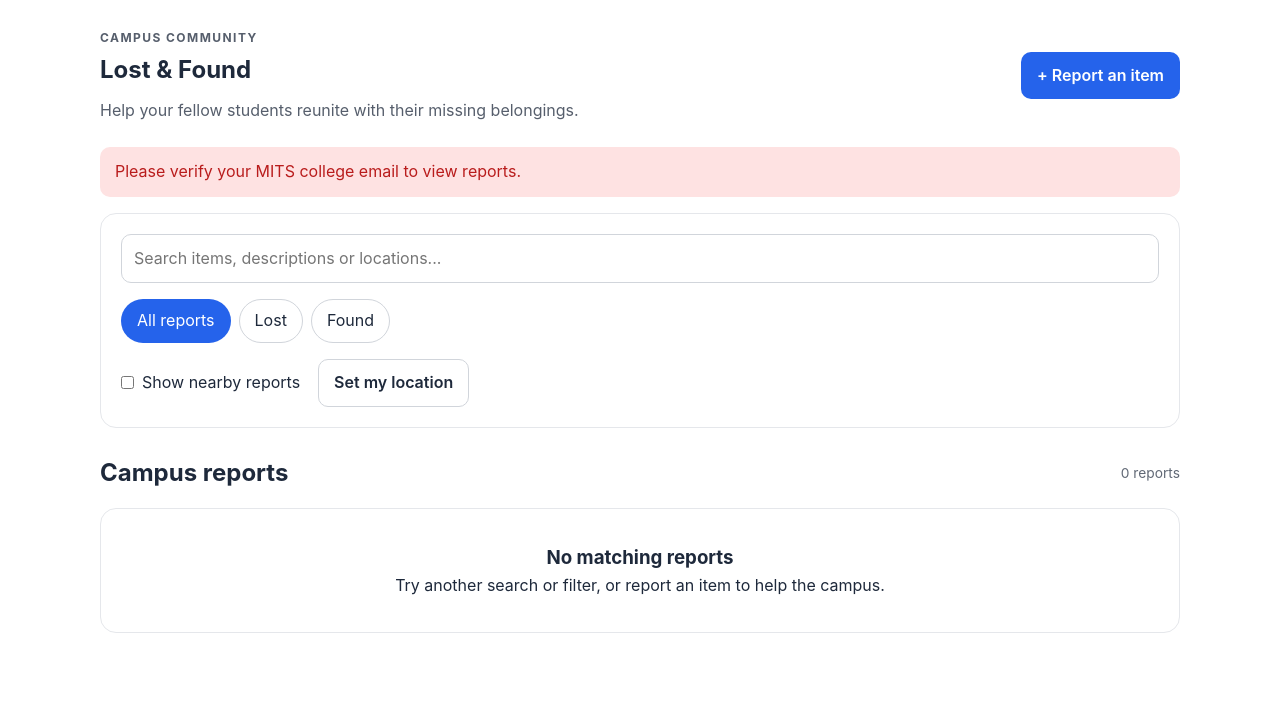
Test: LostFound Page › rejects report creation for an unverified or non-college account
The width and height of the screenshot is (1280, 720).
Step 1. Click the button "+ Report an item" → (1100, 76), box [1021, 52, 1180, 99]
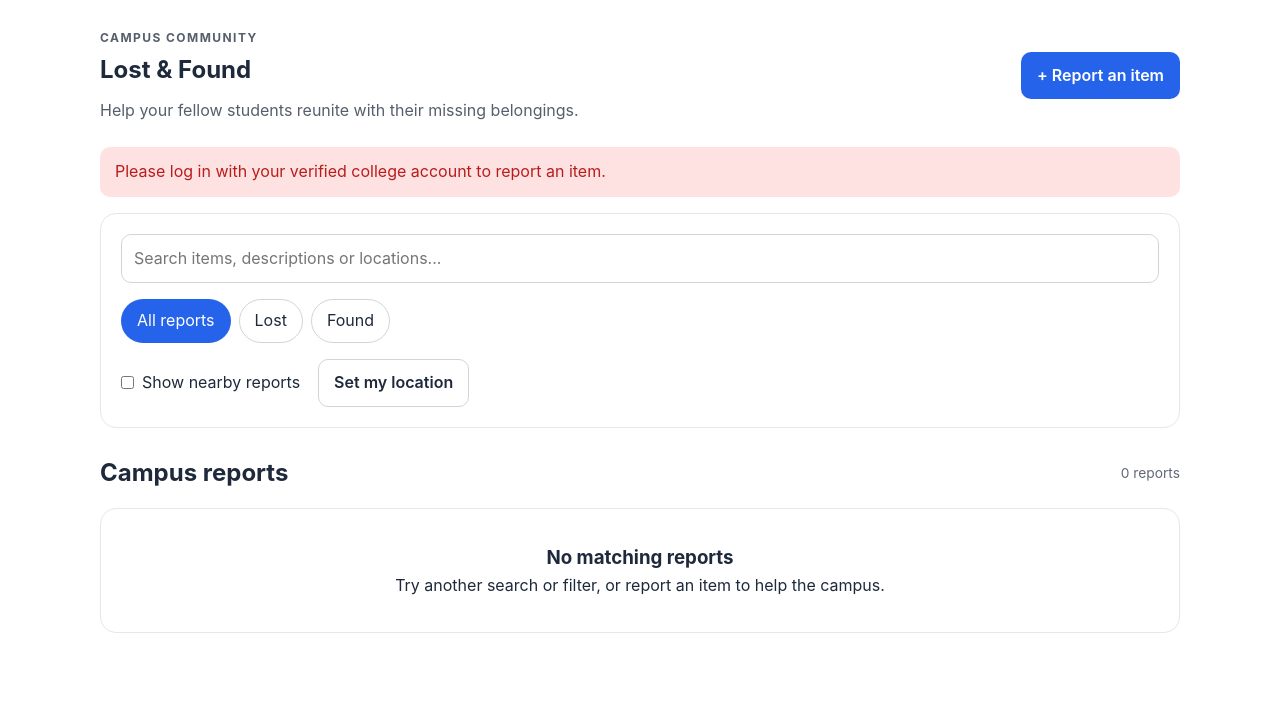
Expected: the message reads "Please log in with your verified college account to report an item.", [115, 161, 606, 181]
